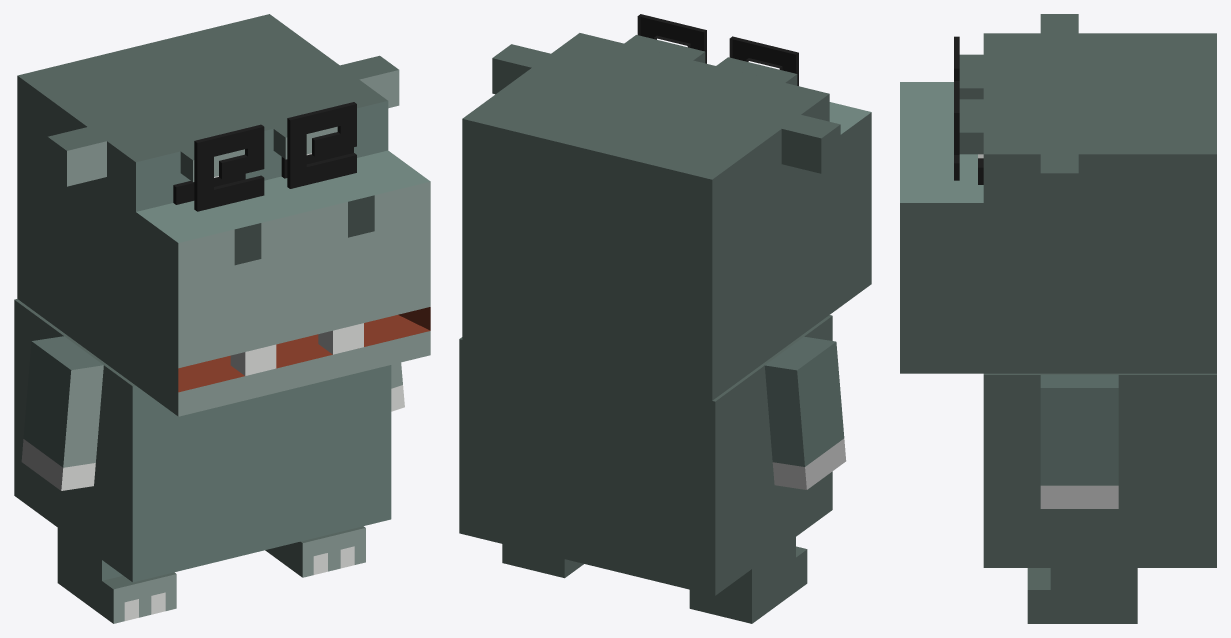
3 renders of one model, left to right at view 1: azimuth 30°, elevation 25°; view 2: azimuth 150°, elevation 25°; view 3: azimuth 270°, elevation 25°, orthographic.
Visible parts, largest first — view 1: Ch_185_Head, Ch_185, Ch_185_Arm_L, Ch_185_Leg_L, Ch_185_Eye_03_L, Ch_185_Eye_03_R, Ch_185_Leg_R, Ch_185_Eye_02, Ch_185_Arm_R; view 2: Ch_185_Head, Ch_185, Ch_185_Arm_L, Ch_185_Leg_L, Ch_185_Eye_03_R, Ch_185_Eye_03_L, Ch_185_Leg_R; view 3: Ch_185_Head, Ch_185, Ch_185_Arm_R, Ch_185_Leg_R, Ch_185_Eye_03_R.
Part boxes in pixels (left/top/right/bottom): Ch_185_Head: left=17, top=14, right=430, bottom=416; Ch_185: left=14, top=299, right=391, bottom=582; Ch_185_Arm_L: left=21, top=336, right=103, bottom=490; Ch_185_Leg_L: left=57, top=528, right=176, bottom=623; Ch_185_Eye_03_L: left=194, top=124, right=264, bottom=211; Ch_185_Eye_03_R: left=287, top=102, right=356, bottom=188; Ch_185_Leg_R: left=265, top=526, right=365, bottom=577; Ch_185_Eye_02: left=173, top=147, right=353, bottom=204; Ch_185_Arm_R: left=391, top=362, right=404, bottom=411; Ch_185_Head: left=462, top=33, right=871, bottom=400; Ch_185: left=459, top=315, right=832, bottom=595; Ch_185_Arm_L: left=764, top=336, right=846, bottom=489; Ch_185_Leg_L: left=689, top=537, right=807, bottom=623; Ch_185_Eye_03_R: left=637, top=14, right=706, bottom=63; Ch_185_Eye_03_L: left=729, top=36, right=798, bottom=85; Ch_185_Leg_R: left=502, top=544, right=583, bottom=578; Ch_185_Head: left=900, top=14, right=1216, bottom=373; Ch_185: left=983, top=373, right=1216, bottom=567; Ch_185_Arm_R: left=1040, top=375, right=1118, bottom=508; Ch_185_Leg_R: left=1027, top=568, right=1137, bottom=623; Ch_185_Eye_03_R: left=954, top=81, right=959, bottom=180.
Size of the model in its own units: 8.58 by 11.86 by 6.97.
